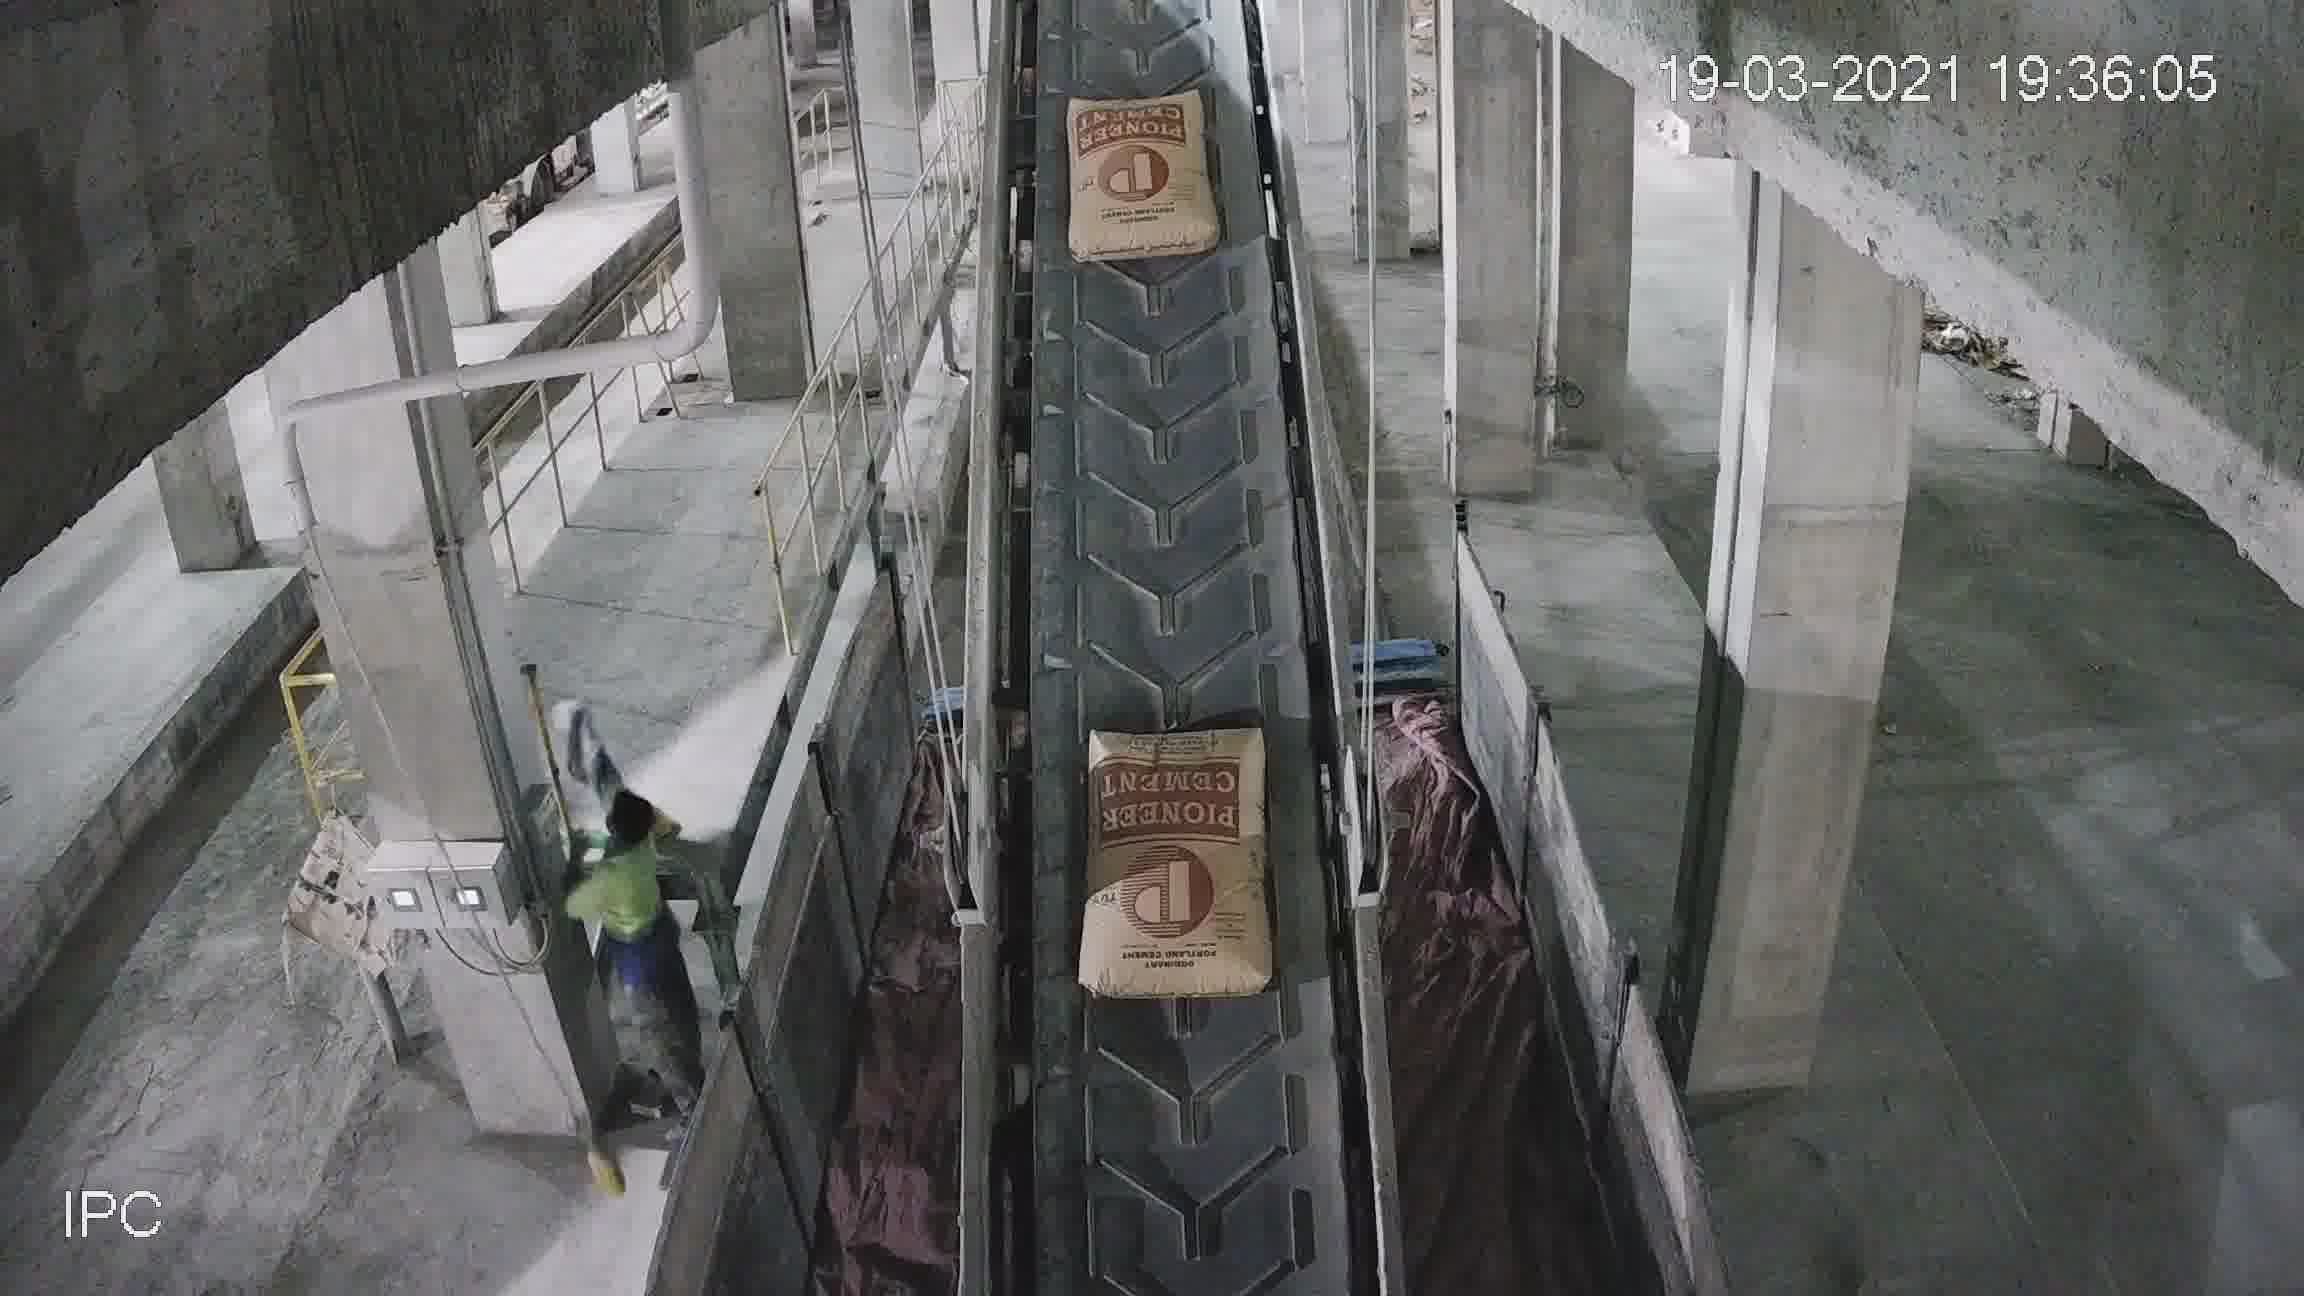bag: (1082, 741, 1277, 1003), (1065, 100, 1212, 263)
belt: (967, 28, 1378, 1294)
